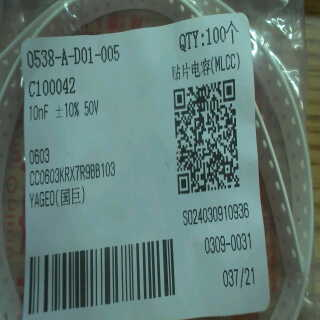10nF: (26, 101, 53, 125)
